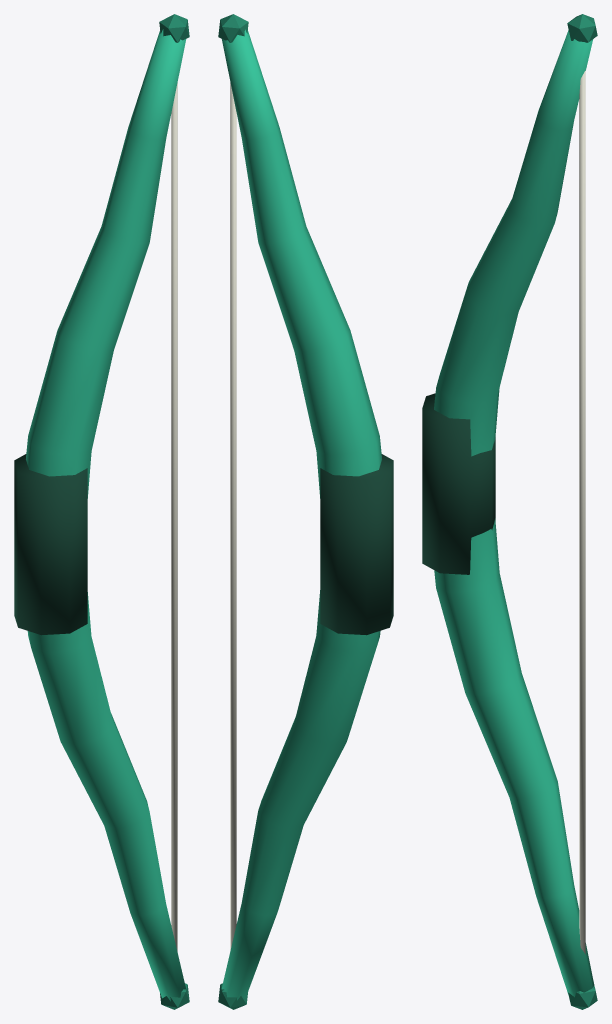
Rendered from mythril_bow.glb.
The picture shows the model from 3 angles, left to right: view 1: azimuth 30°, elevation 25°; view 2: azimuth 150°, elevation 25°; view 3: azimuth 330°, elevation 25°; orthographic projection.
Visible parts, largest first — view 1: mythril_bow_v0; view 2: mythril_bow_v0; view 3: mythril_bow_v0.
Boxes of the visible parts, left/top/right/bottom form: mythril_bow_v0: left=14, top=14, right=189, bottom=1009; mythril_bow_v0: left=218, top=14, right=393, bottom=1009; mythril_bow_v0: left=422, top=14, right=597, bottom=1009.
Bounding box in the file's own units: 0.2061 × 1.16 × 0.08.
